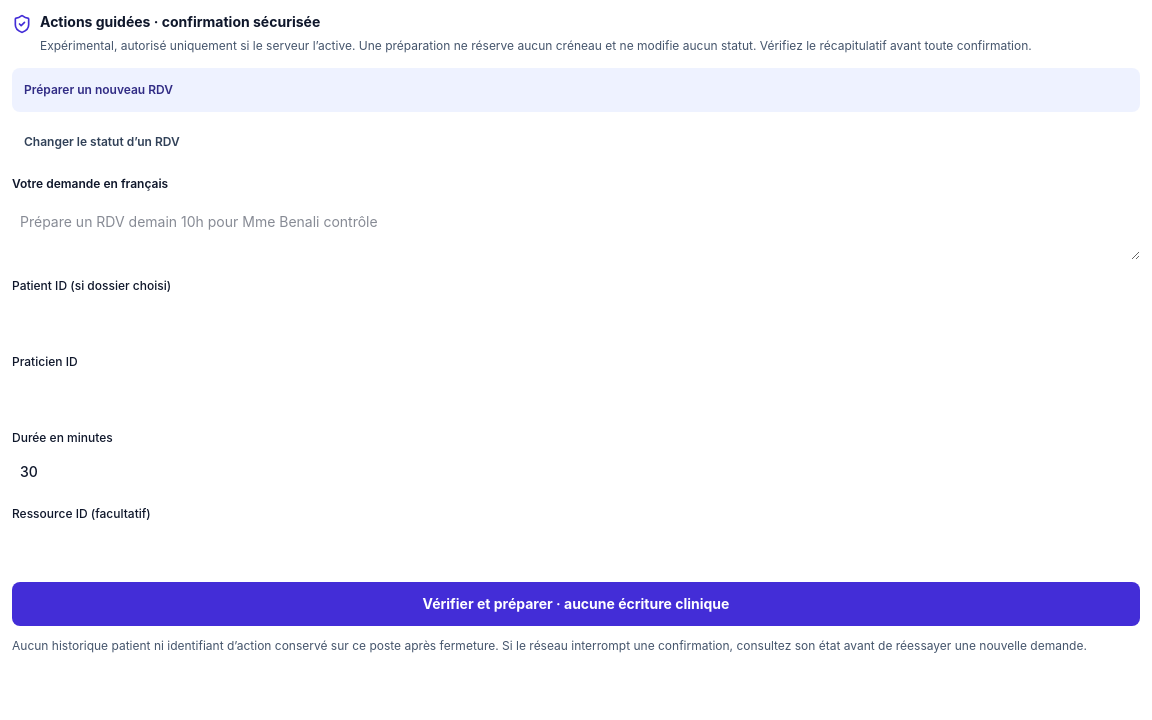
Test: CB-03 G3 synthetic explicit-confirmation UX › invalid appointment ID is rejected locally without POST
Click the button "Changer le statut d’un RDV" at (102, 141), box [12,120,1140,164]
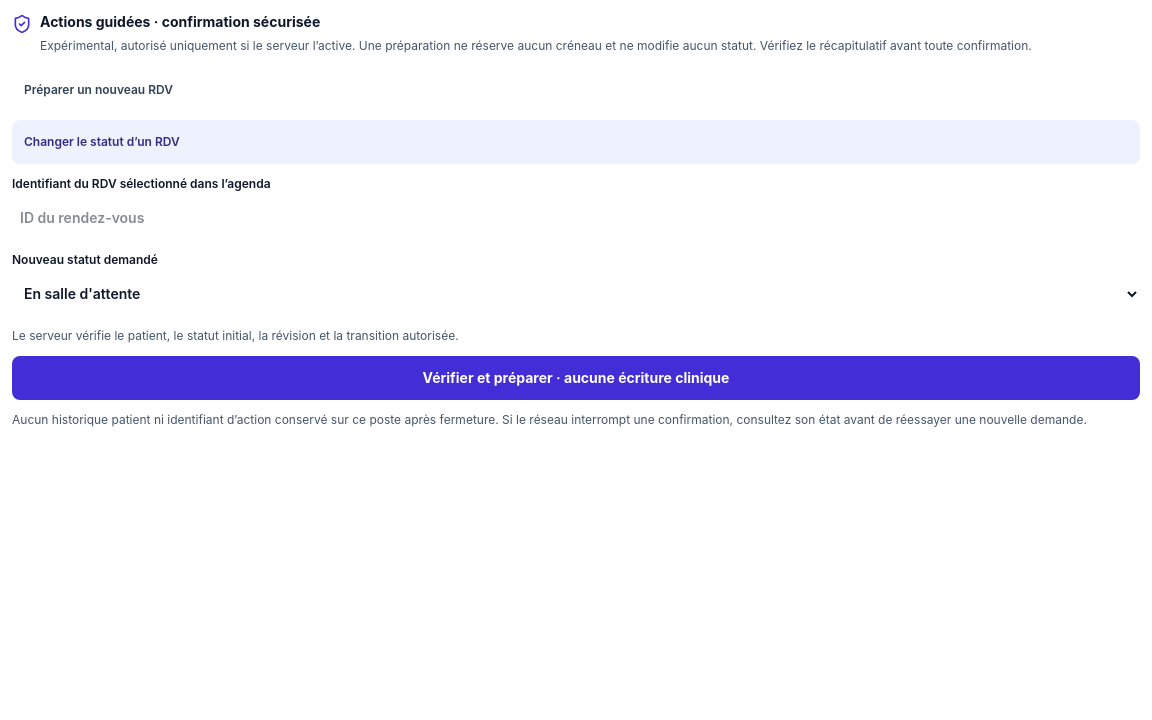
Type "-7" into the field labelled "Identifiant du RDV sélectionné dans l’agenda" at (576, 218), box [12,196,1140,240]
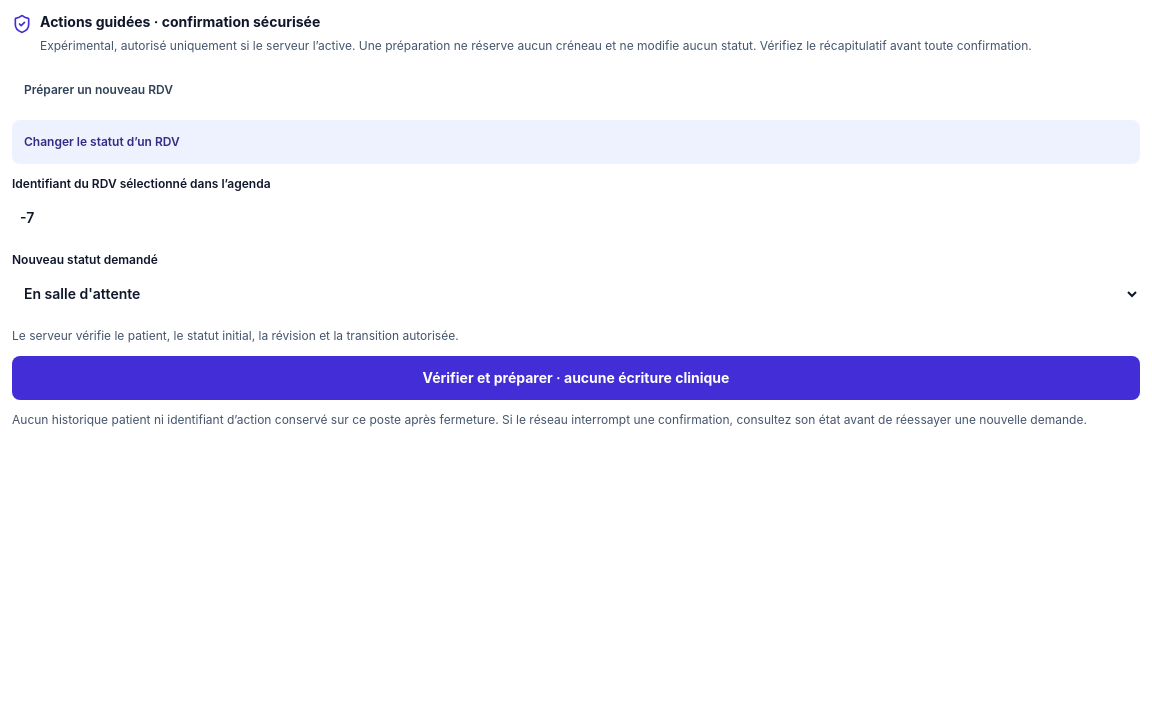
Click the button "Vérifier et préparer · aucune écriture clinique" at (576, 378), box [12,356,1140,400]
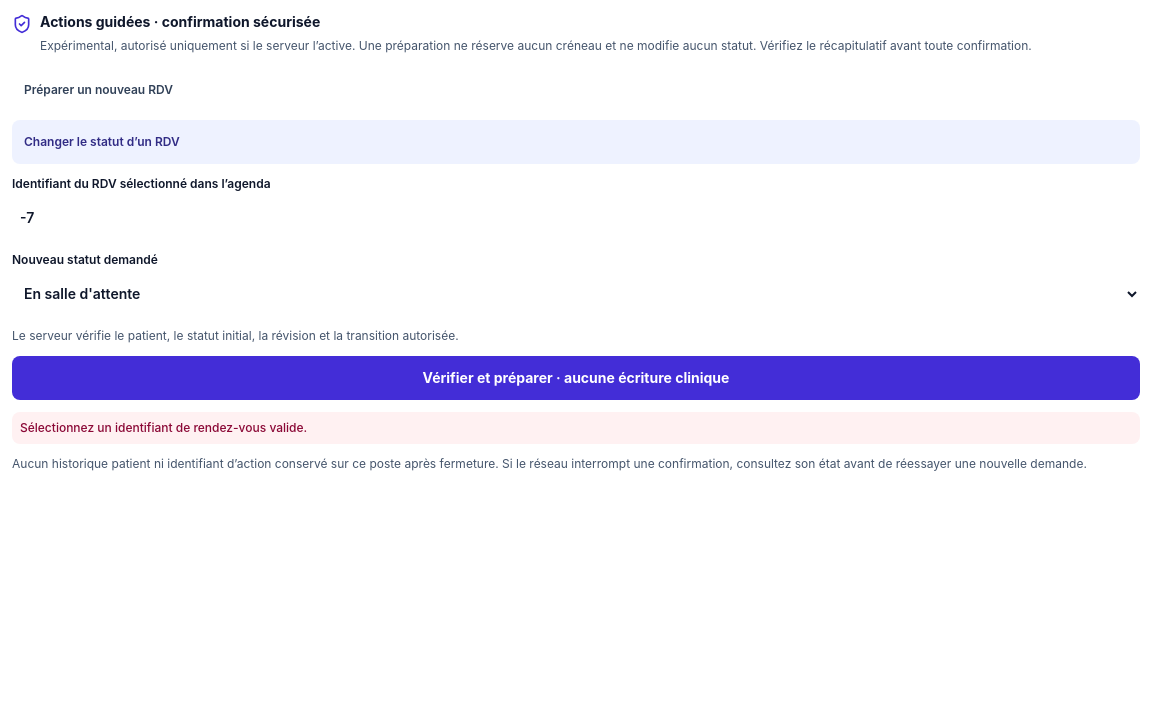
Check: the message shows "identifiant de rendez-vous valide", box [20,420,307,434]
